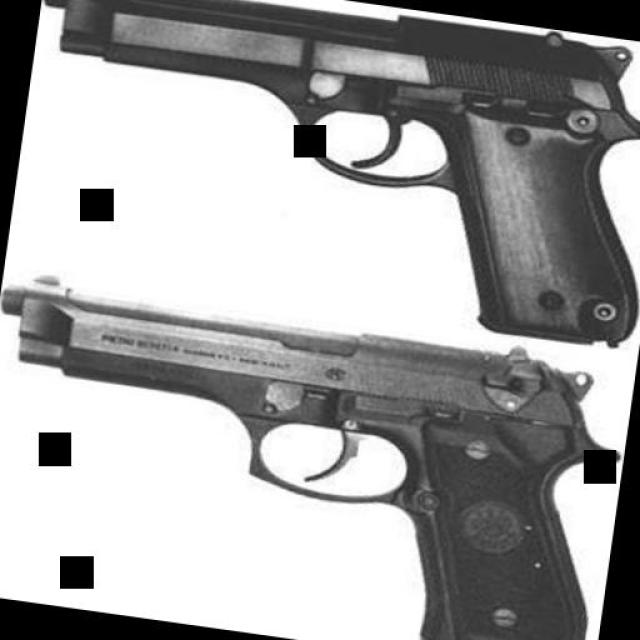gun: (0, 265, 629, 640), (5, 0, 640, 351)
